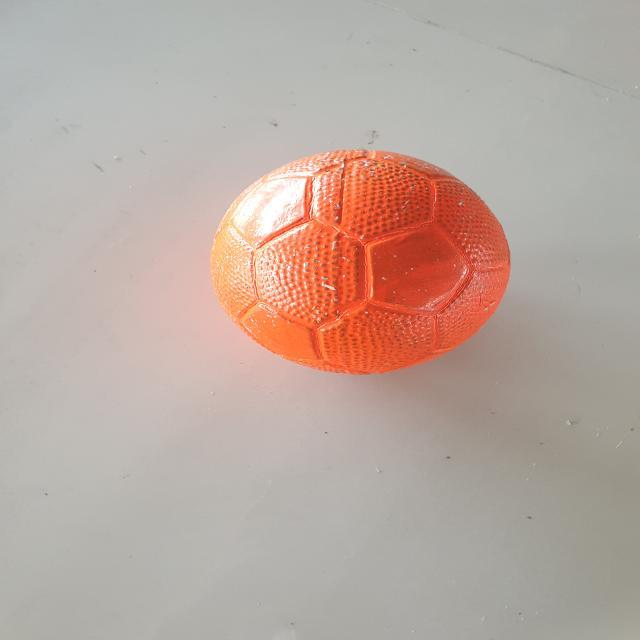bola: (206, 144, 514, 380)
